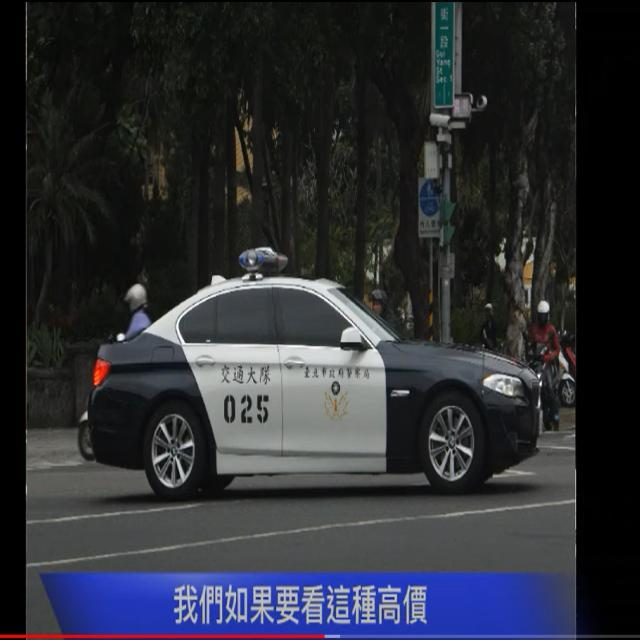police_car: (76, 235, 552, 531)
